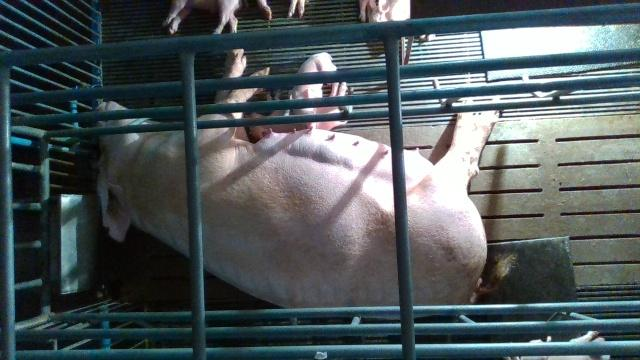piglet: (247, 82, 348, 139), (289, 51, 337, 128), (162, 0, 244, 34)
sow-sleep-lactate: (94, 49, 499, 319)
